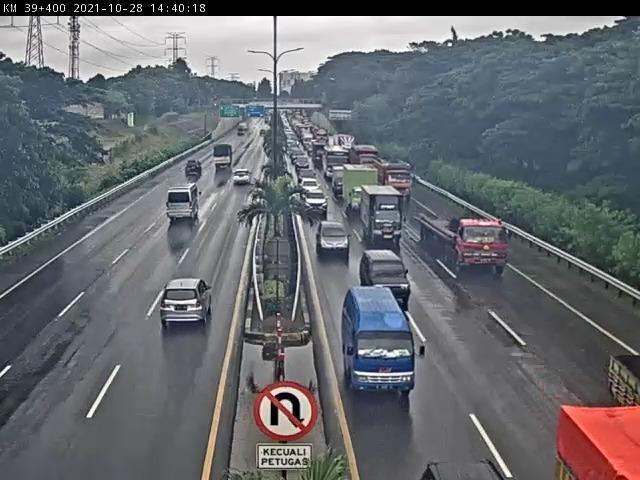Bus: (339, 286, 417, 394), (167, 185, 200, 220)
